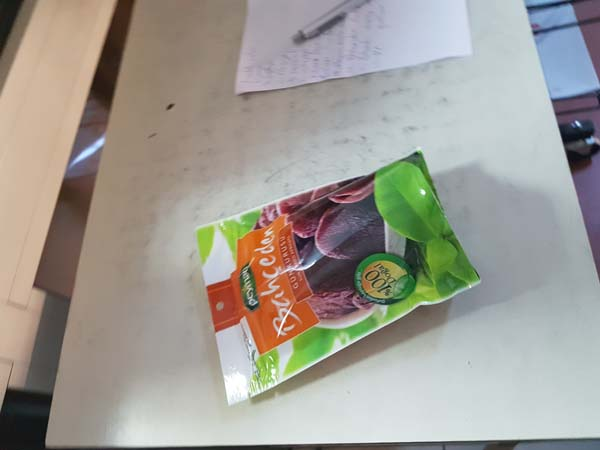bahcedengunkurusu: (189, 145, 485, 407)
